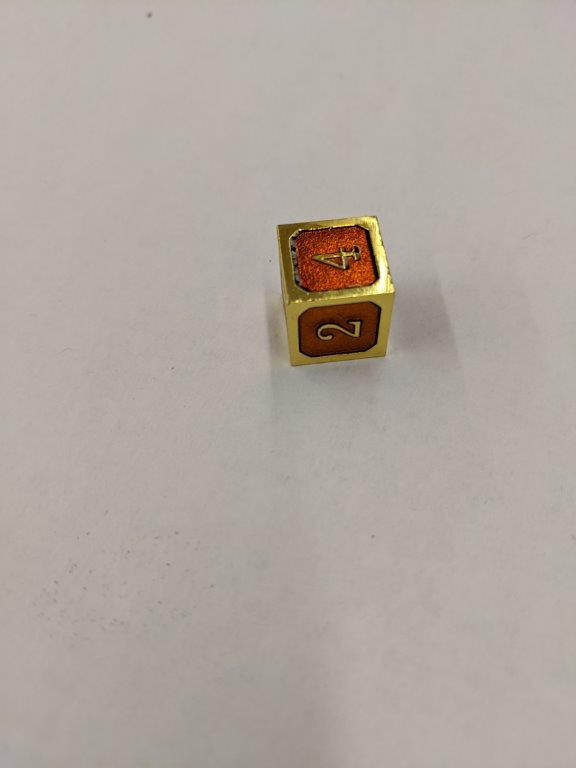d6-4: (276, 214, 396, 368)
